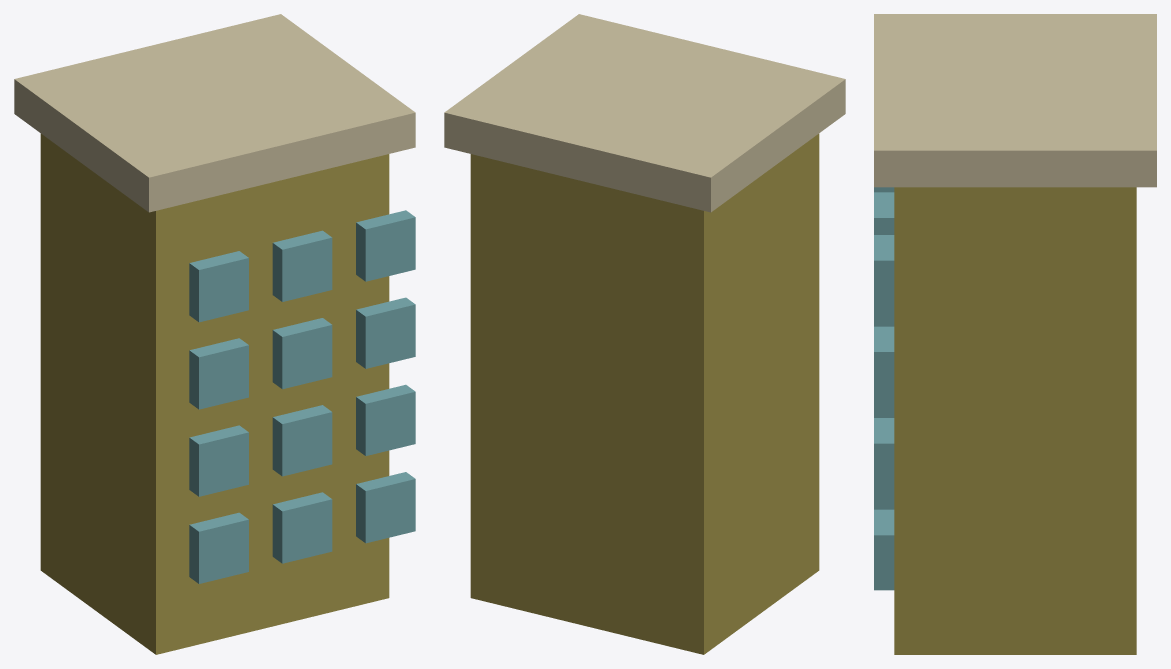
File: energy-19.glb
The picture shows the model from 3 angles, left to right: view 1: azimuth 30°, elevation 25°; view 2: azimuth 150°, elevation 25°; view 3: azimuth 270°, elevation 25°; orthographic projection. The views are drawn at different scales.
Visible parts, largest first — view 1: Cooling tower; view 2: Cooling tower; view 3: Cooling tower.
Part boxes in pixels (x1=…): Cooling tower: x1=14, y1=14, x2=415, y2=654; Cooling tower: x1=444, y1=14, x2=845, y2=654; Cooling tower: x1=874, y1=14, x2=1156, y2=654.
Size of the model in its own units: 1.28 by 2.24 by 1.12.
